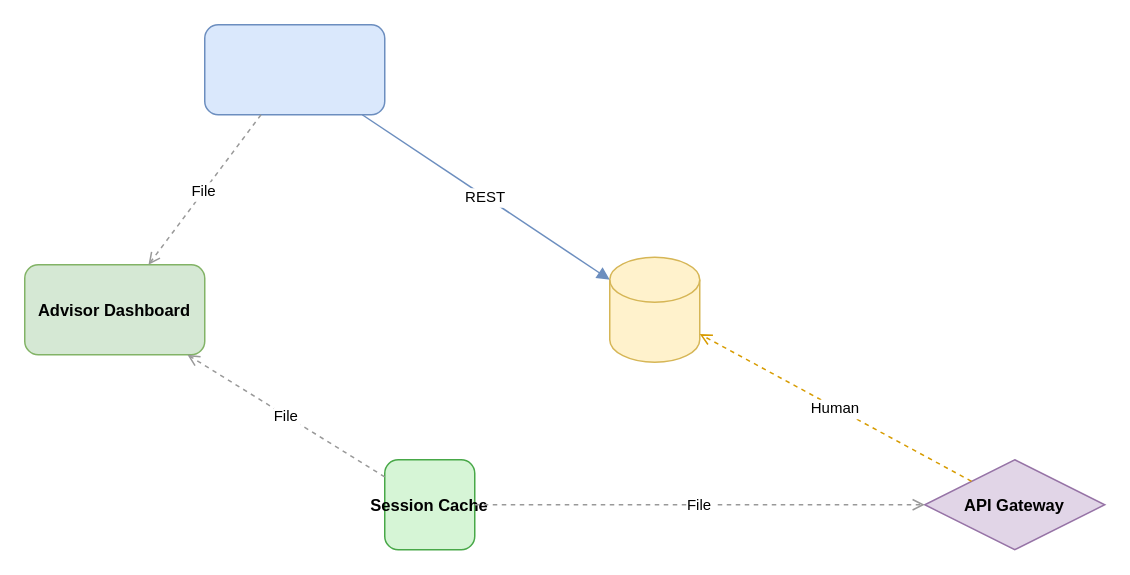
This 1130x575 diagram has some shape labels left out. Each missing label, with the centre of its shape:
"Authentication Service" goes at point (294, 69).
"Redis Cache Cluster" goes at point (654, 309).
